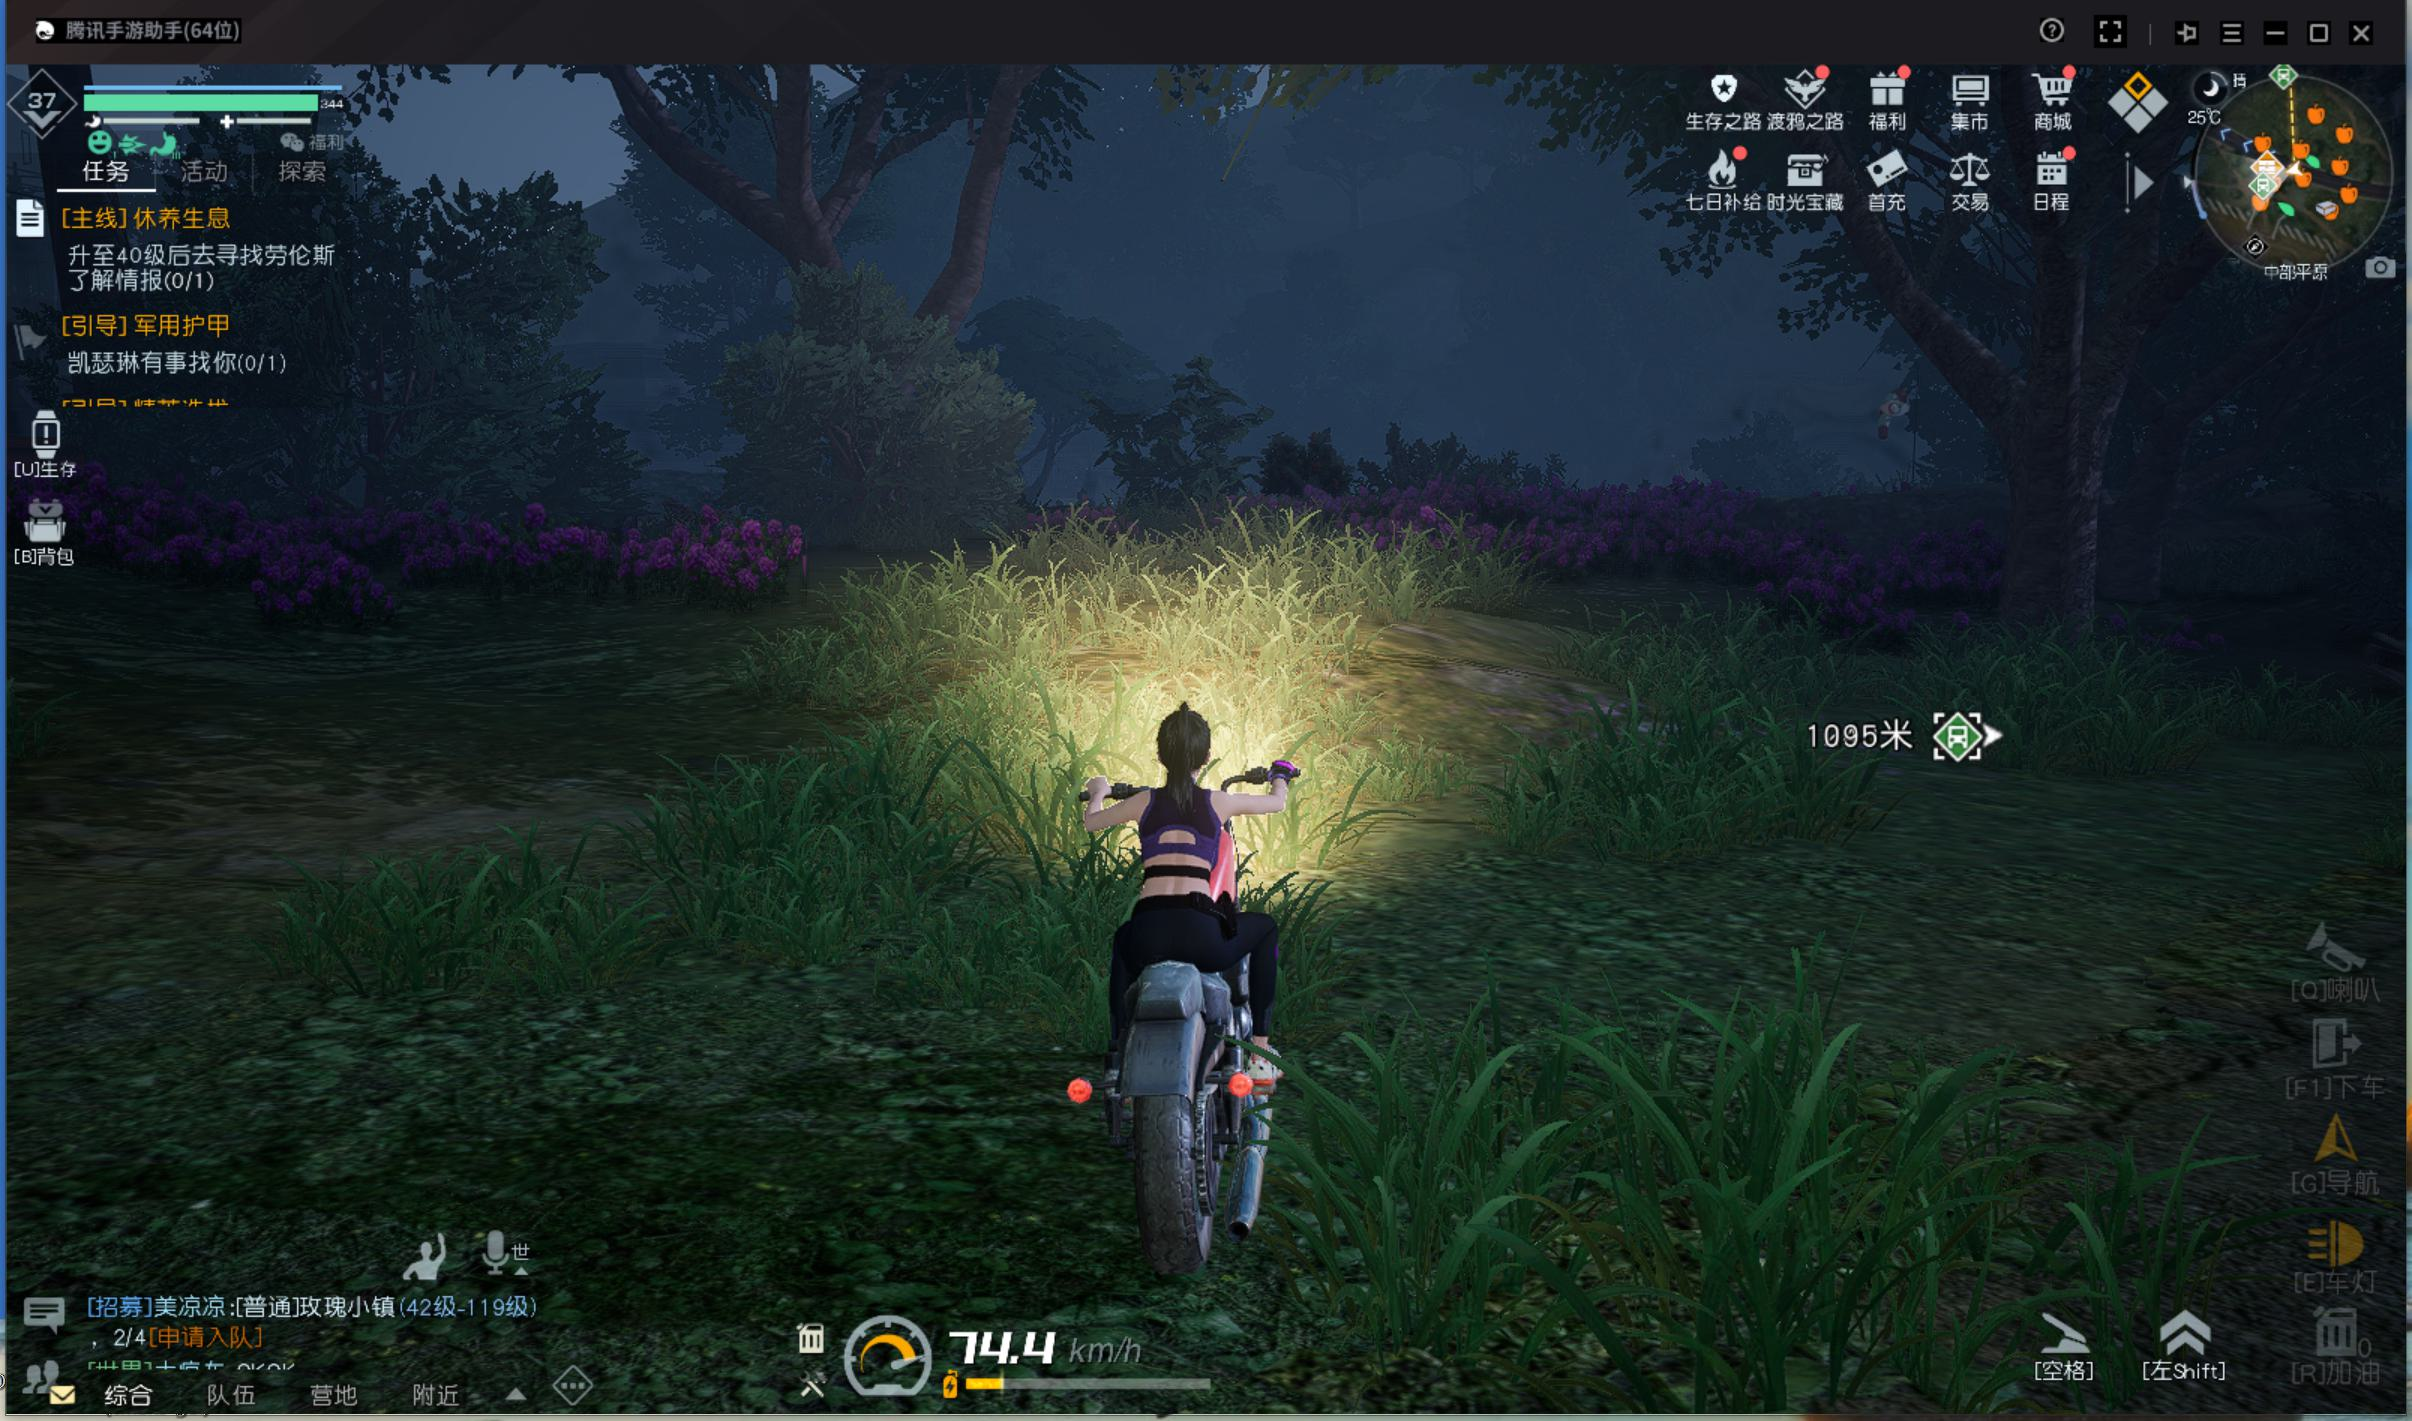tree: (1993, 343, 2143, 722)
